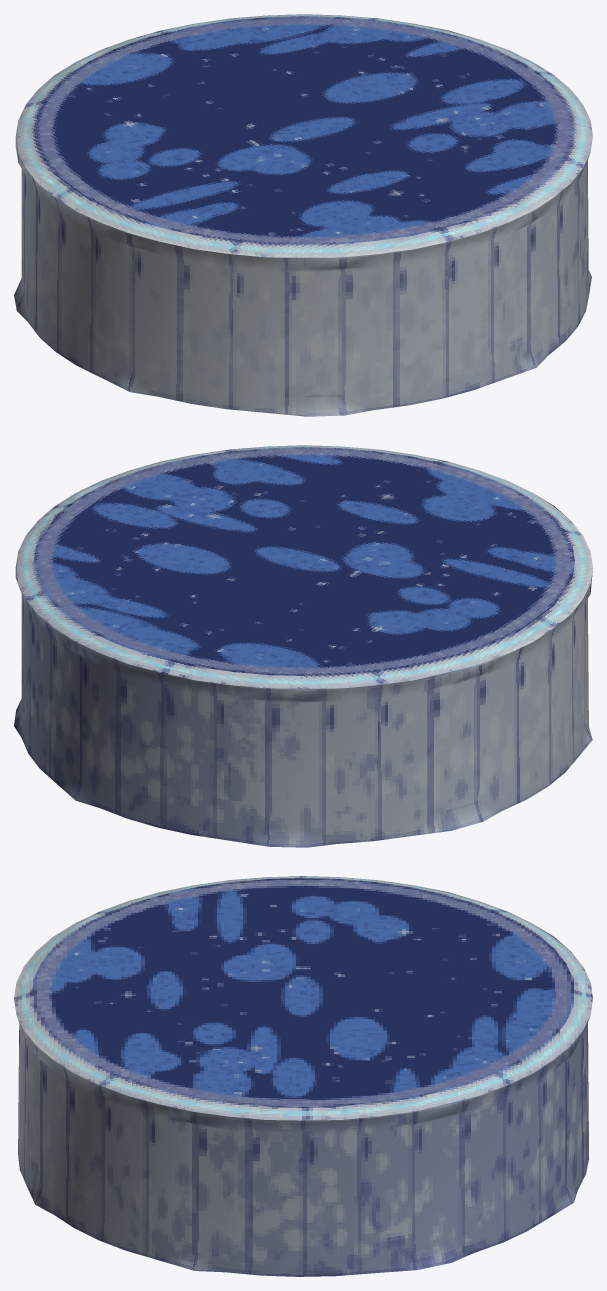
Rendered from pod_base_own.glb.
3 views of the same model, one above another, from view 1: azimuth 30°, elevation 25°; view 2: azimuth 150°, elevation 25°; view 3: azimuth 270°, elevation 25° (orthographic).
Parts seen in each view (by area): view 1: mesh; view 2: mesh; view 3: mesh.
Boxes of the visible parts, x1,y1,x2,y2 form: mesh: (14,14,592,416); mesh: (14,445,592,847); mesh: (14,876,592,1276).
Size of the model in its own units: 0.9585 by 0.3 by 0.9591.
1 material, 1 textured.
